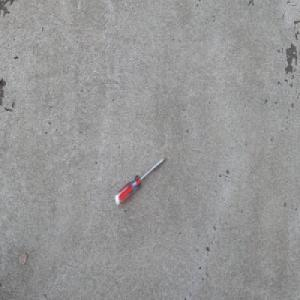Screwdriver: (114, 156, 167, 206)
